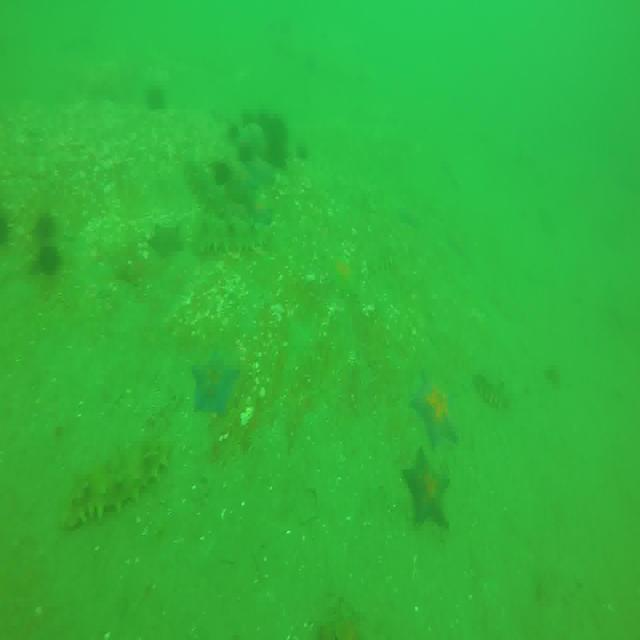echinus: (34, 242, 65, 278), (264, 134, 289, 172), (264, 111, 288, 143), (212, 150, 232, 188), (34, 211, 53, 239), (247, 112, 265, 138), (147, 84, 162, 113)
holothurian: (62, 433, 173, 526), (185, 158, 247, 224), (190, 221, 273, 257), (472, 370, 512, 410)
starfish: (410, 364, 460, 448), (404, 445, 450, 527), (195, 355, 242, 419), (149, 222, 188, 259), (329, 254, 363, 296), (238, 150, 270, 187)
